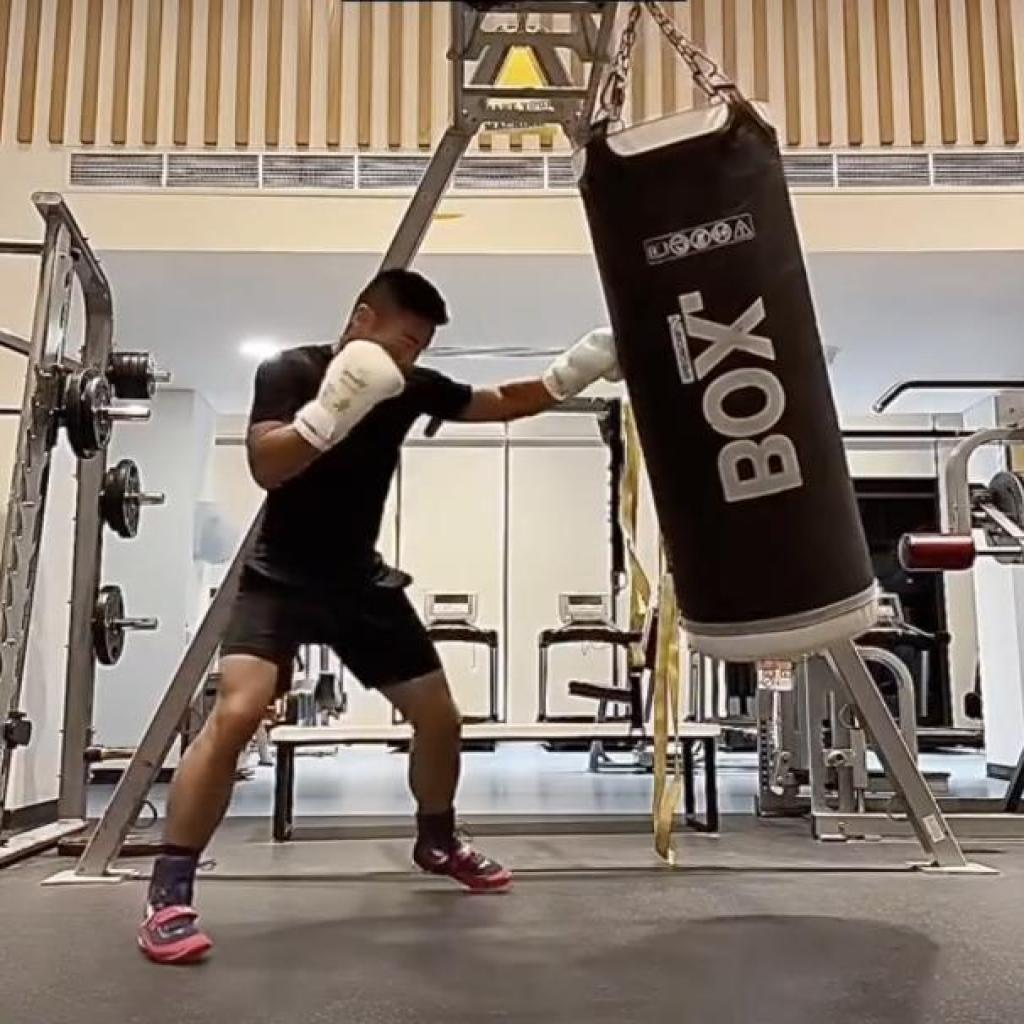bag: (554, 94, 889, 672)
jab: (132, 261, 642, 974)
